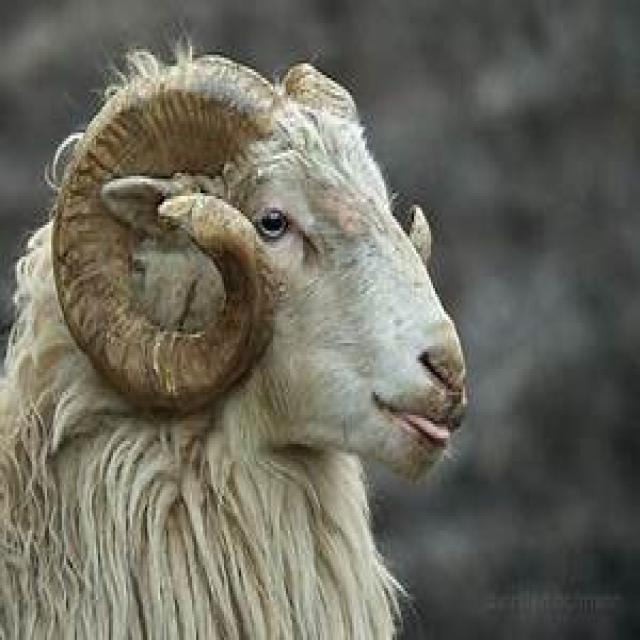animal: (0, 31, 469, 637)
